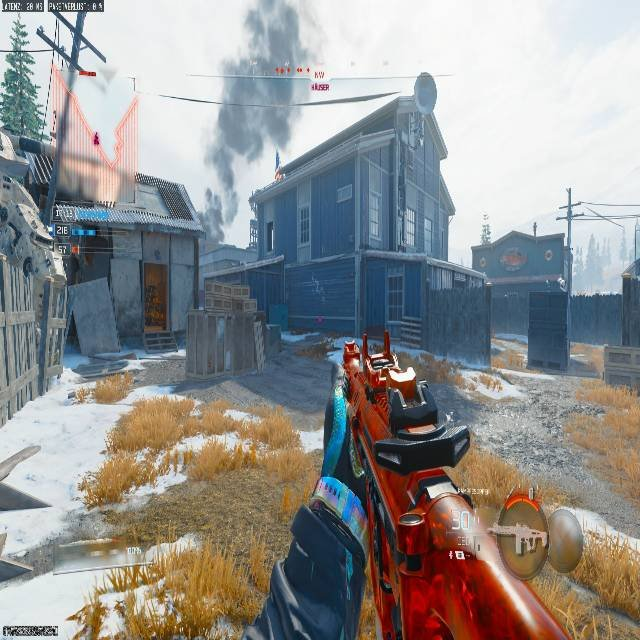player: (0, 192, 39, 284)
